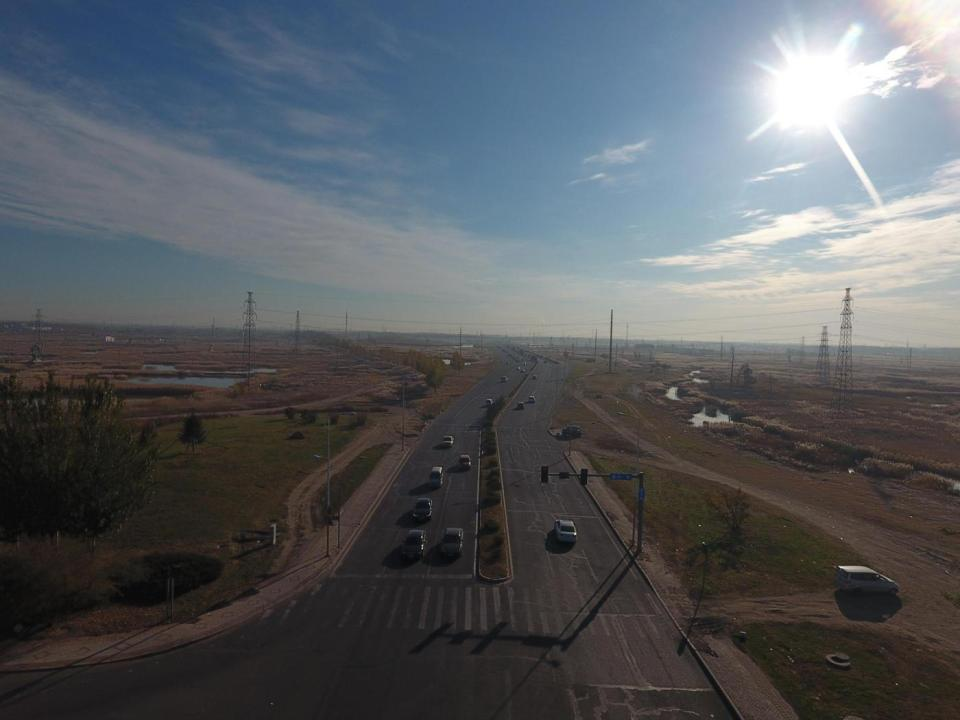car: (441, 526, 463, 560), (403, 529, 427, 560), (554, 518, 578, 544), (412, 497, 433, 522), (459, 454, 472, 470), (442, 435, 455, 448), (516, 402, 526, 409), (528, 397, 535, 402), (532, 375, 537, 379), (522, 362, 526, 366), (543, 360, 547, 363), (520, 370, 524, 373), (506, 361, 509, 364), (516, 367, 520, 369)
truck: (486, 398, 493, 406), (500, 376, 508, 383)
van: (834, 565, 899, 595), (429, 466, 444, 489), (561, 424, 581, 437)
